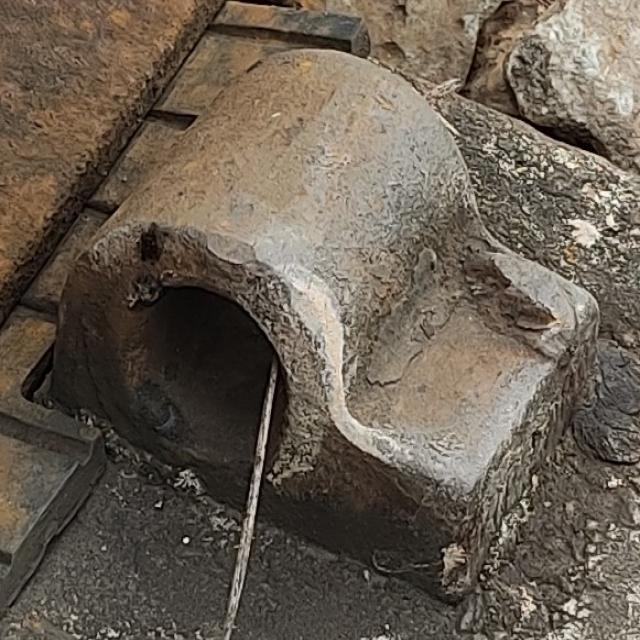track_bolt_missing: (46, 39, 479, 436)
